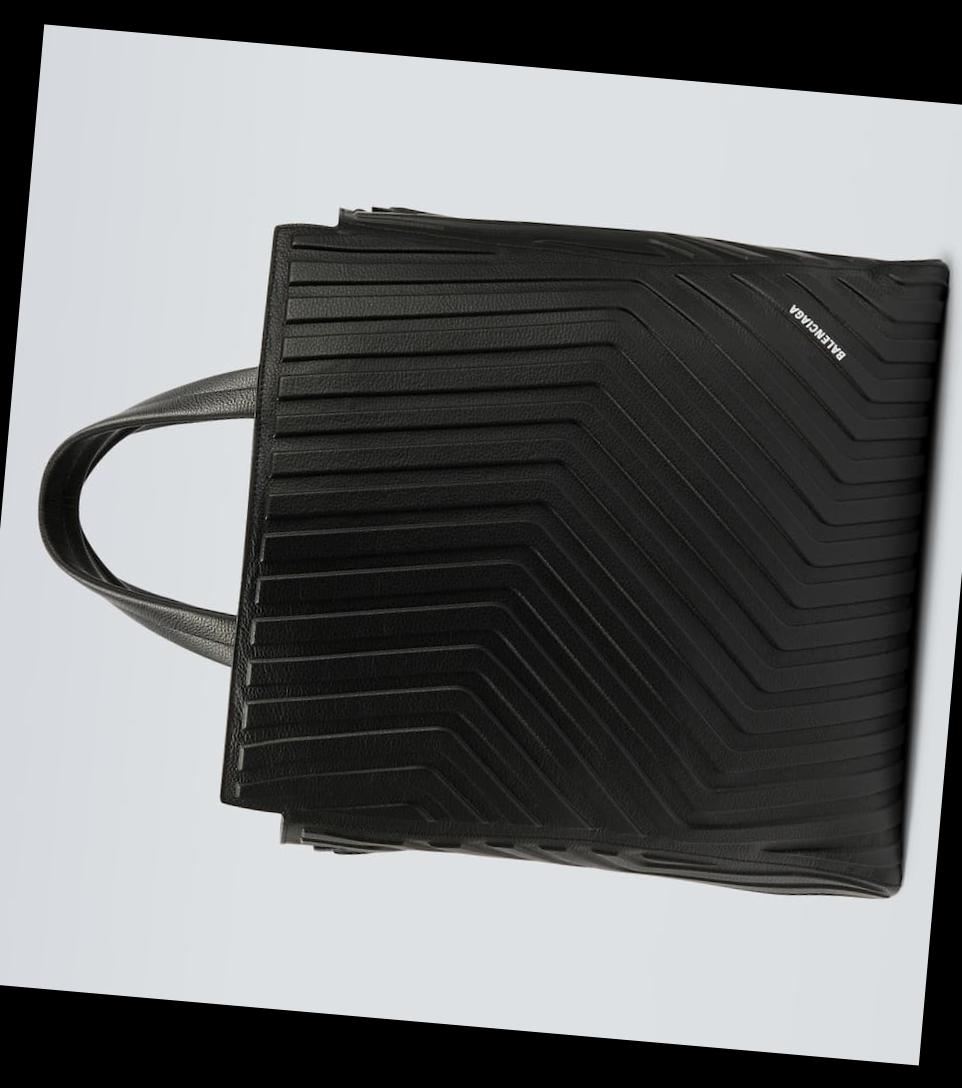BALENCIAGA: (784, 302, 850, 360)
